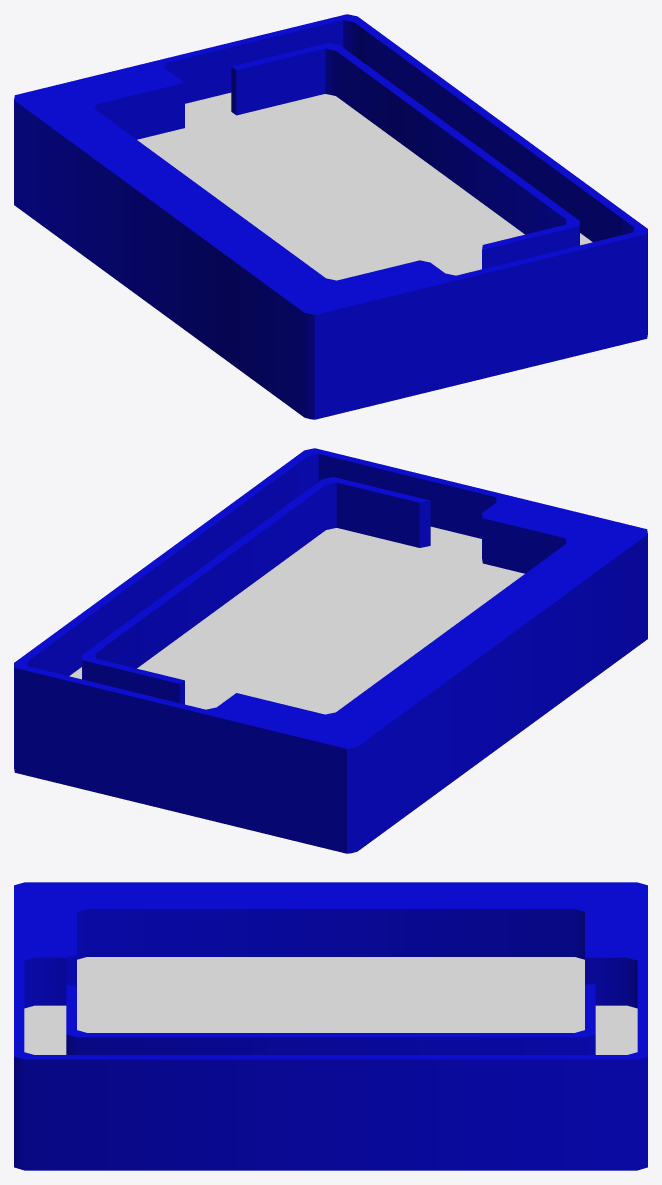
The model's file is board.fbx.
3 views of the same model, one above another, from view 1: azimuth 30°, elevation 25°; view 2: azimuth 150°, elevation 25°; view 3: azimuth 270°, elevation 25° (orthographic). The views are drawn at different scales.
Parts seen in each view (by area): view 1: Cube; view 2: Cube; view 3: Cube.
Boxes of the visible parts, x1,y1,x2,y2 form: Cube: [14, 14, 647, 419]; Cube: [14, 448, 647, 853]; Cube: [14, 882, 647, 1170].
Size of the model in its own units: 400 by 120 by 605.
